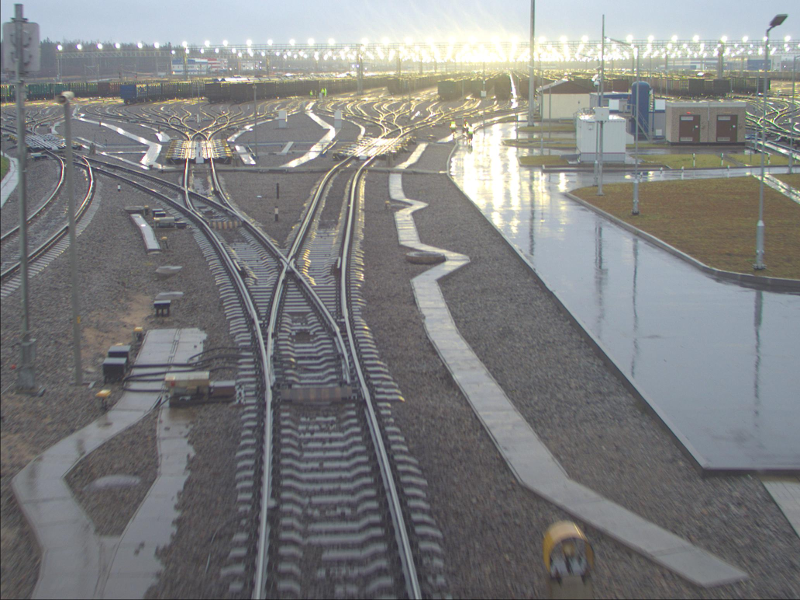left: (172, 183, 245, 219)
right: (261, 239, 367, 386)
